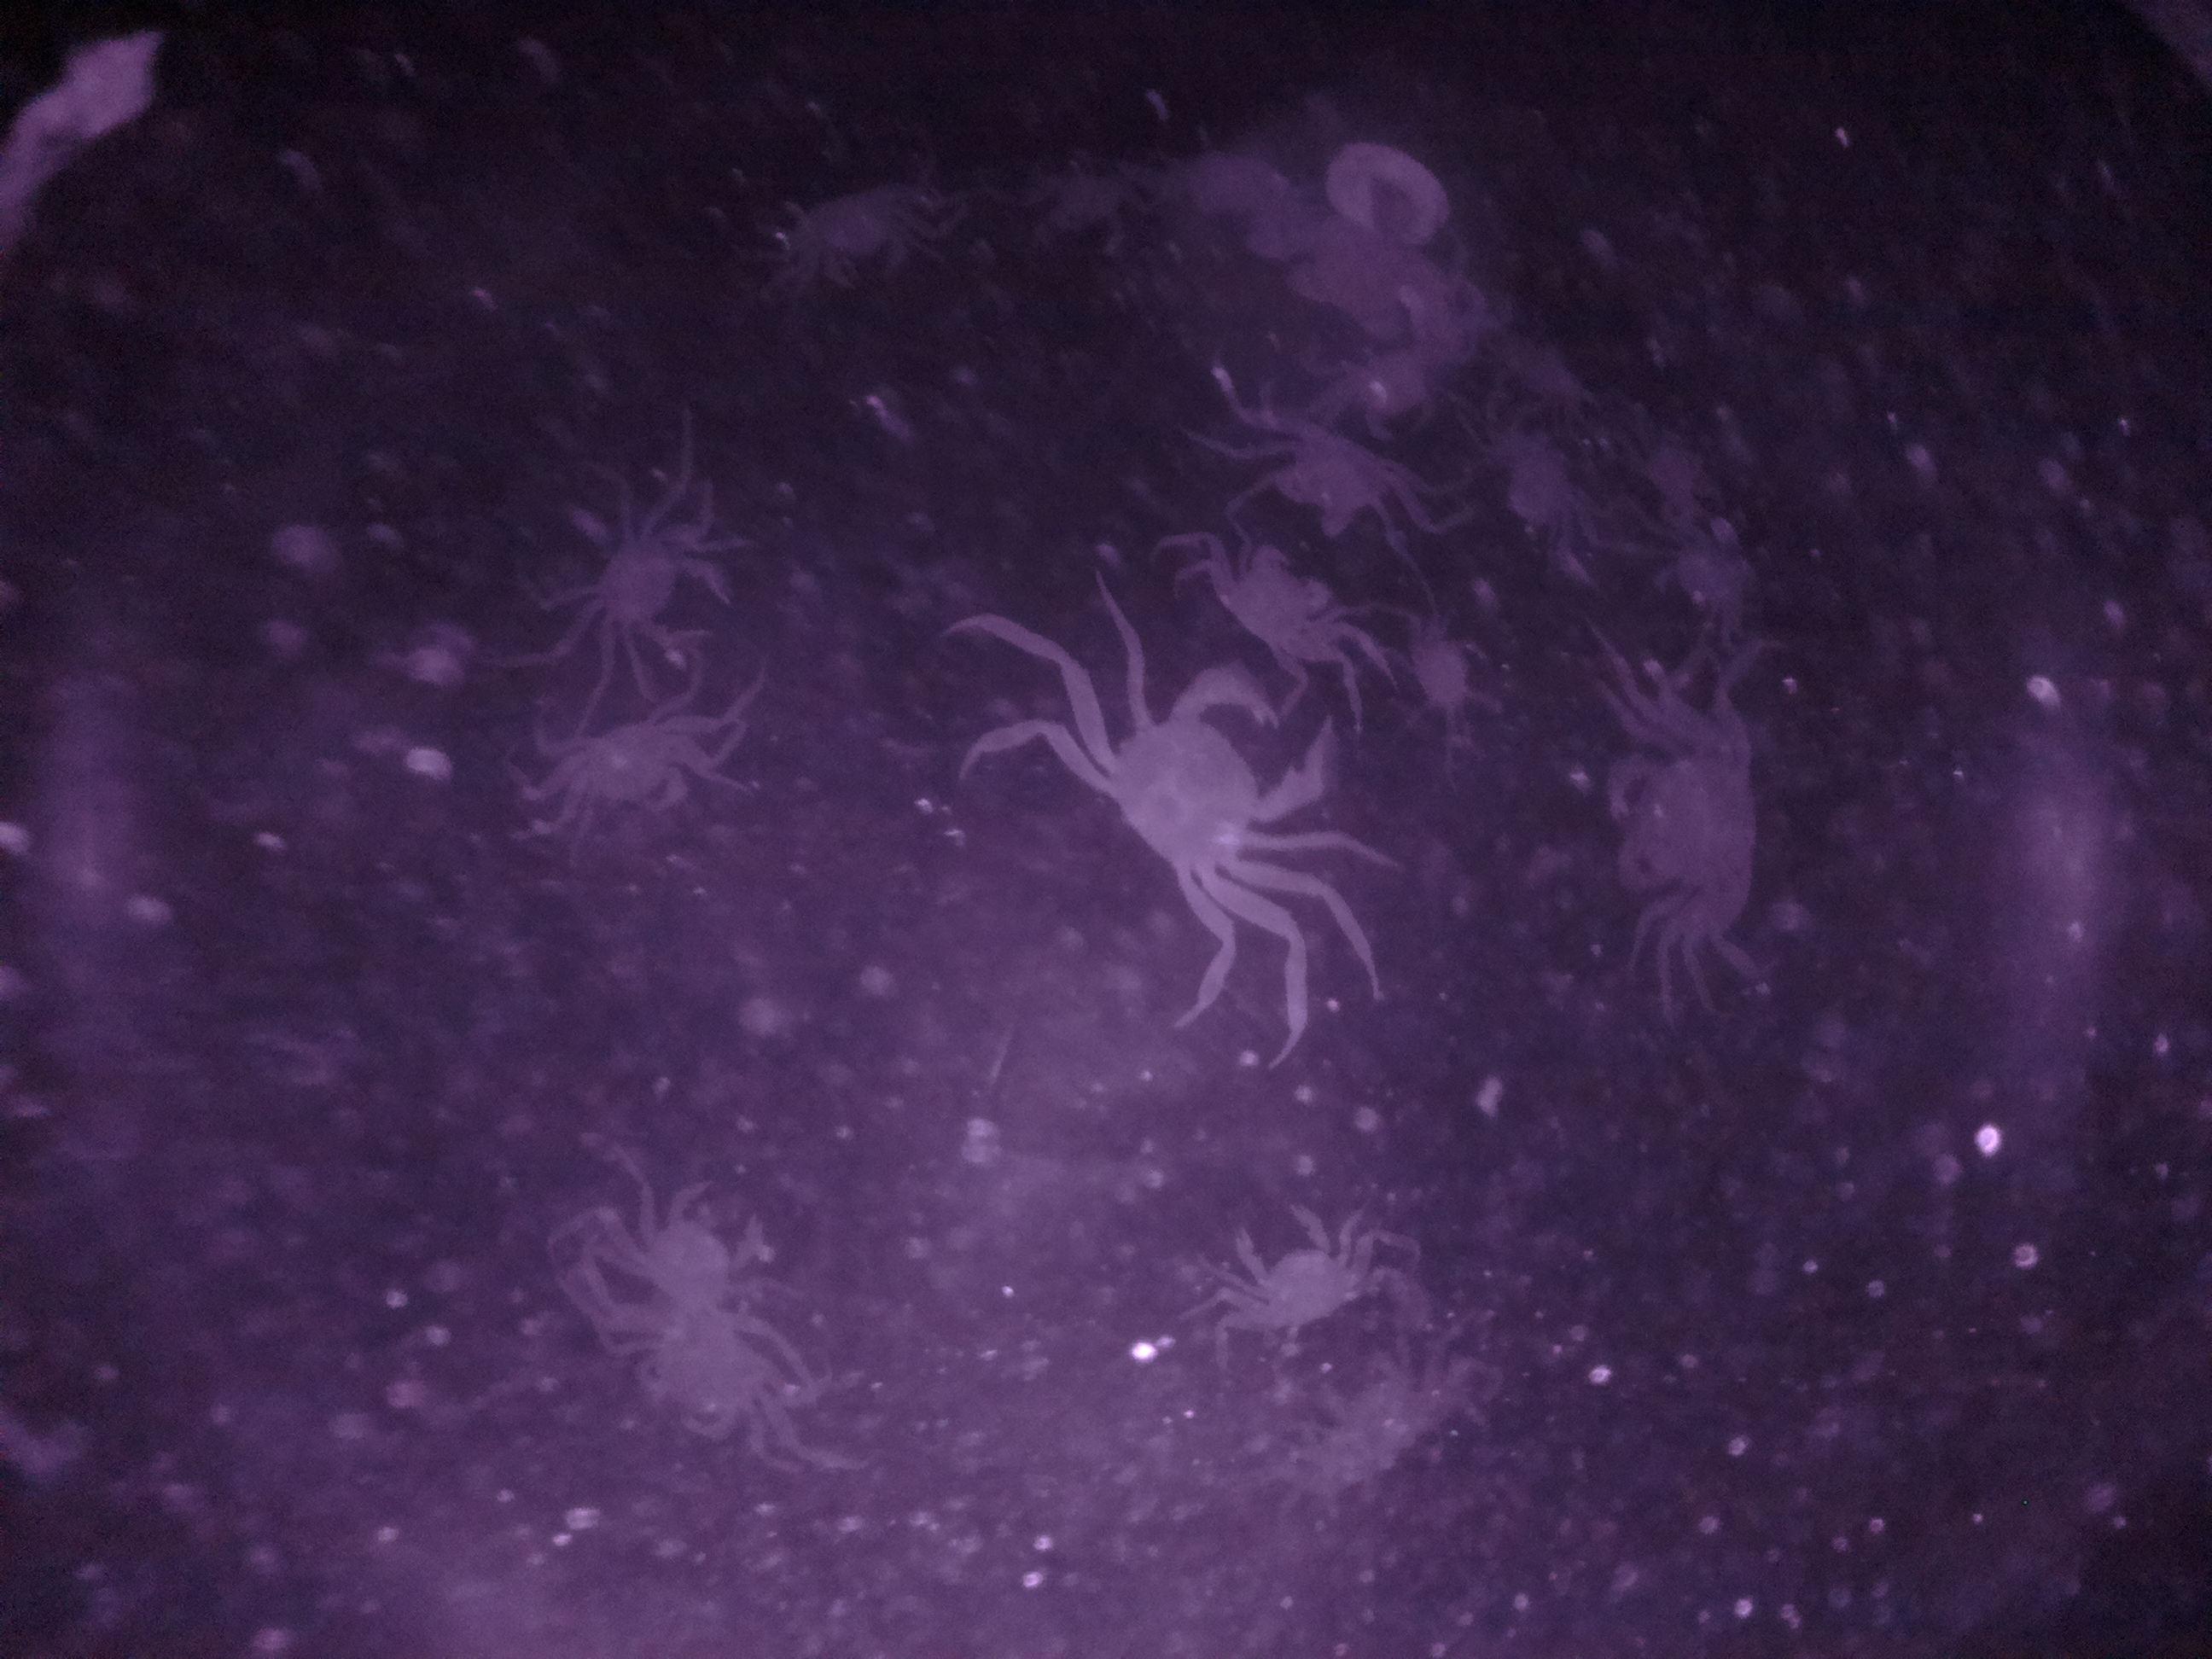Crab: (1069, 676, 1346, 924), (1587, 711, 1782, 943), (1202, 1187, 1390, 1349), (524, 706, 726, 850), (556, 502, 744, 655), (1226, 401, 1425, 538), (1184, 530, 1357, 669)
